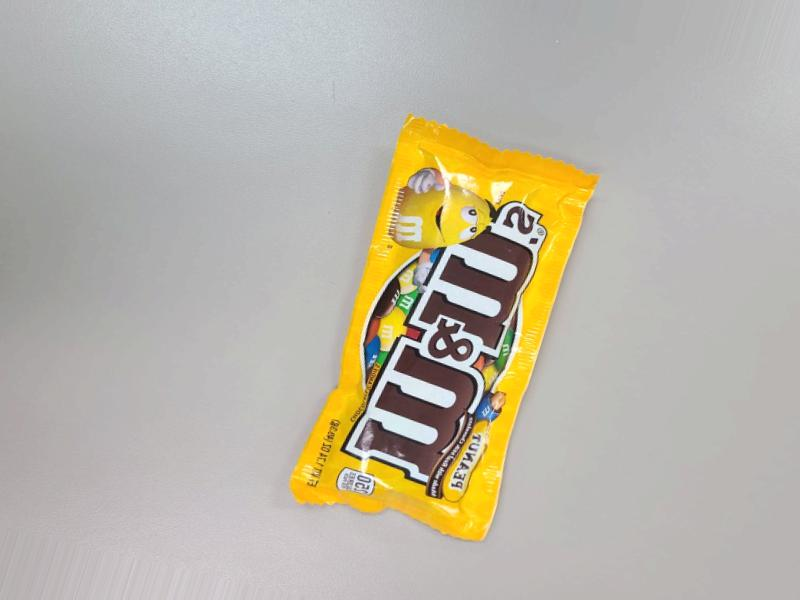m&m: (297, 115, 590, 544)
